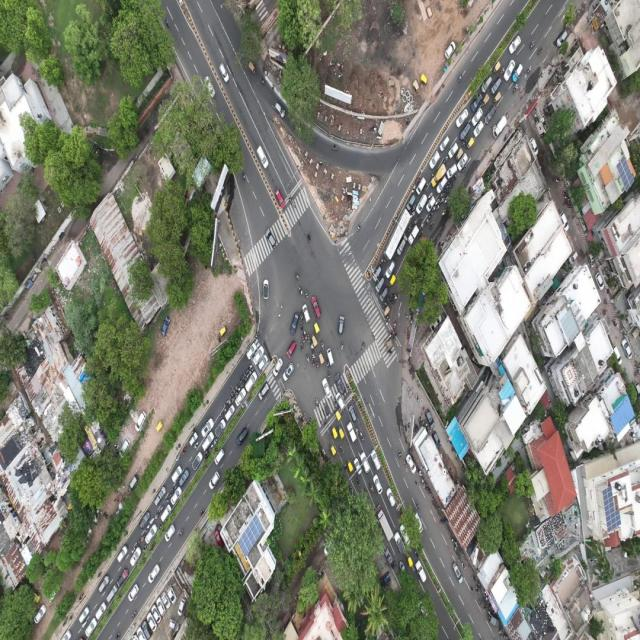3W: (154, 420, 163, 433), (492, 63, 501, 76), (338, 424, 345, 440), (219, 324, 228, 336), (482, 96, 491, 108), (412, 78, 419, 93), (323, 402, 331, 415), (329, 443, 336, 457), (389, 275, 397, 287), (319, 351, 325, 367), (312, 333, 318, 348), (332, 425, 338, 440), (420, 72, 427, 84), (347, 458, 353, 472), (384, 307, 391, 319), (456, 148, 463, 160), (408, 554, 414, 568), (336, 408, 342, 422), (314, 322, 320, 335), (500, 83, 507, 94), (468, 138, 474, 148)
Bus: (384, 210, 411, 261)
Cars: (256, 146, 271, 172), (415, 557, 427, 584), (452, 564, 466, 586), (177, 14, 189, 39), (135, 412, 148, 435), (493, 115, 506, 138), (506, 54, 520, 75), (106, 582, 119, 604), (121, 435, 134, 457), (172, 486, 185, 508), (266, 223, 277, 248), (282, 363, 295, 384), (148, 564, 160, 586), (393, 532, 405, 554), (413, 509, 424, 533), (428, 150, 441, 170), (162, 504, 175, 524), (311, 294, 322, 317), (404, 453, 416, 474), (444, 41, 456, 62), (192, 451, 204, 472), (484, 106, 496, 127), (481, 73, 494, 92), (201, 417, 214, 436), (373, 473, 384, 495), (203, 430, 215, 450), (95, 600, 107, 620), (98, 573, 110, 593), (147, 524, 159, 544), (245, 372, 257, 392), (78, 605, 90, 625), (456, 152, 468, 172), (203, 26, 213, 50), (127, 582, 139, 602), (455, 109, 468, 127), (408, 225, 419, 246), (272, 358, 283, 379), (164, 312, 174, 335), (400, 521, 410, 544), (257, 354, 269, 373), (385, 261, 397, 280), (260, 279, 272, 298), (236, 427, 248, 446), (130, 548, 141, 568), (117, 567, 128, 587), (216, 418, 227, 438), (385, 486, 395, 508), (360, 451, 370, 473), (286, 339, 297, 359), (165, 524, 176, 544), (276, 187, 286, 209), (180, 468, 191, 488), (436, 176, 448, 194), (384, 549, 396, 567), (290, 312, 300, 333), (335, 373, 345, 394), (416, 175, 427, 194), (214, 448, 225, 467), (118, 545, 129, 564), (471, 109, 484, 125), (127, 474, 137, 494), (406, 194, 417, 212), (209, 472, 220, 490), (259, 383, 270, 401), (473, 122, 484, 140), (491, 78, 502, 96), (253, 345, 263, 364), (398, 235, 407, 256), (471, 94, 482, 111), (337, 312, 345, 335), (86, 619, 96, 637), (459, 124, 471, 139), (168, 464, 178, 482), (224, 405, 235, 421), (447, 164, 458, 180), (371, 450, 380, 469), (140, 512, 150, 529), (190, 427, 198, 448), (336, 392, 344, 412), (440, 136, 450, 152), (302, 302, 310, 322), (322, 378, 330, 398), (348, 405, 358, 421), (449, 143, 458, 160), (375, 276, 384, 293), (379, 287, 388, 304), (237, 390, 247, 405), (426, 196, 436, 211), (372, 266, 381, 282), (327, 346, 333, 367), (354, 456, 361, 474)
LCV: (430, 163, 446, 187), (348, 422, 358, 442)
M2W: (225, 19, 232, 33), (289, 195, 296, 207), (499, 66, 506, 77), (294, 271, 300, 282), (359, 431, 365, 442), (416, 499, 422, 510), (356, 222, 362, 233), (322, 418, 328, 428), (431, 205, 437, 215), (443, 155, 449, 165), (300, 333, 306, 343), (305, 353, 311, 363), (340, 444, 345, 456), (388, 329, 394, 339), (502, 100, 508, 110), (115, 630, 121, 640), (306, 332, 311, 344), (298, 286, 303, 297), (179, 527, 184, 538), (398, 448, 403, 459), (427, 191, 433, 200), (424, 217, 430, 226), (434, 198, 440, 207), (320, 340, 326, 349), (385, 319, 391, 328), (305, 287, 309, 300), (237, 386, 242, 396), (211, 442, 216, 452), (333, 397, 338, 407), (369, 482, 374, 492), (356, 477, 361, 487), (419, 223, 425, 231), (151, 517, 157, 525), (159, 506, 165, 514), (300, 342, 304, 354), (300, 319, 304, 331), (382, 302, 388, 310), (199, 506, 205, 514), (307, 232, 311, 244), (230, 388, 235, 397), (223, 399, 228, 408), (155, 510, 160, 519), (206, 449, 211, 458), (394, 294, 399, 303), (249, 363, 254, 371), (440, 190, 445, 198), (165, 496, 170, 504), (315, 397, 319, 407), (408, 314, 412, 324), (132, 610, 136, 620), (312, 356, 316, 366), (340, 340, 344, 350), (355, 424, 359, 434), (140, 536, 146, 542), (445, 183, 449, 192), (452, 175, 458, 181), (170, 486, 174, 495), (153, 498, 157, 507), (144, 524, 148, 533), (328, 371, 332, 380), (407, 226, 412, 233), (413, 219, 417, 227), (419, 216, 423, 224), (419, 230, 423, 238), (128, 550, 132, 558), (389, 292, 394, 298), (316, 358, 319, 368), (219, 414, 223, 421), (216, 438, 220, 445), (160, 489, 164, 496), (312, 351, 316, 358), (406, 331, 409, 340), (393, 321, 396, 330), (304, 330, 307, 339), (326, 358, 329, 367), (224, 407, 228, 413), (445, 192, 448, 200), (300, 312, 304, 318), (311, 342, 314, 350), (242, 376, 245, 383), (246, 369, 249, 376), (234, 397, 237, 404), (220, 410, 223, 417), (230, 397, 233, 404), (440, 198, 444, 203), (386, 296, 389, 302), (390, 300, 393, 306), (243, 384, 246, 389), (228, 394, 230, 400)
MAV: (417, 194, 427, 214), (135, 538, 140, 548)
Truck: (376, 505, 393, 542)
